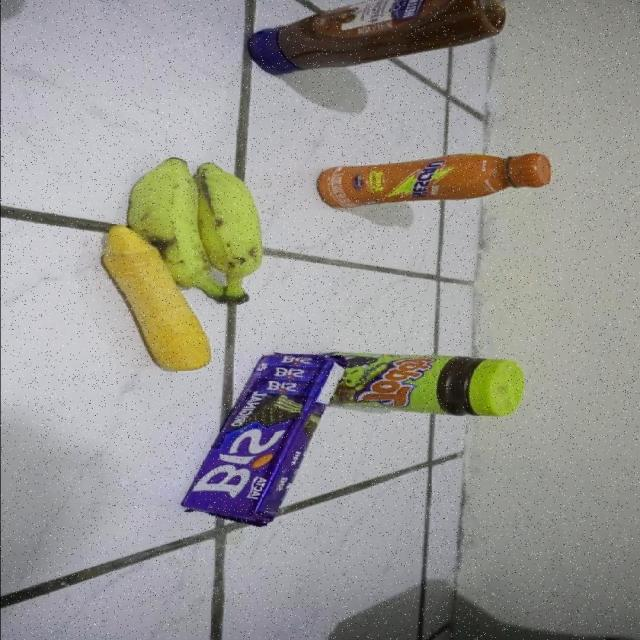Banana: (162, 158, 265, 295)
Carrot: (130, 296, 212, 374)
ChocolateMilk: (315, 153, 556, 210)
ChocolatePowder: (352, 352, 521, 420)
Ketchup: (250, 0, 511, 76)
